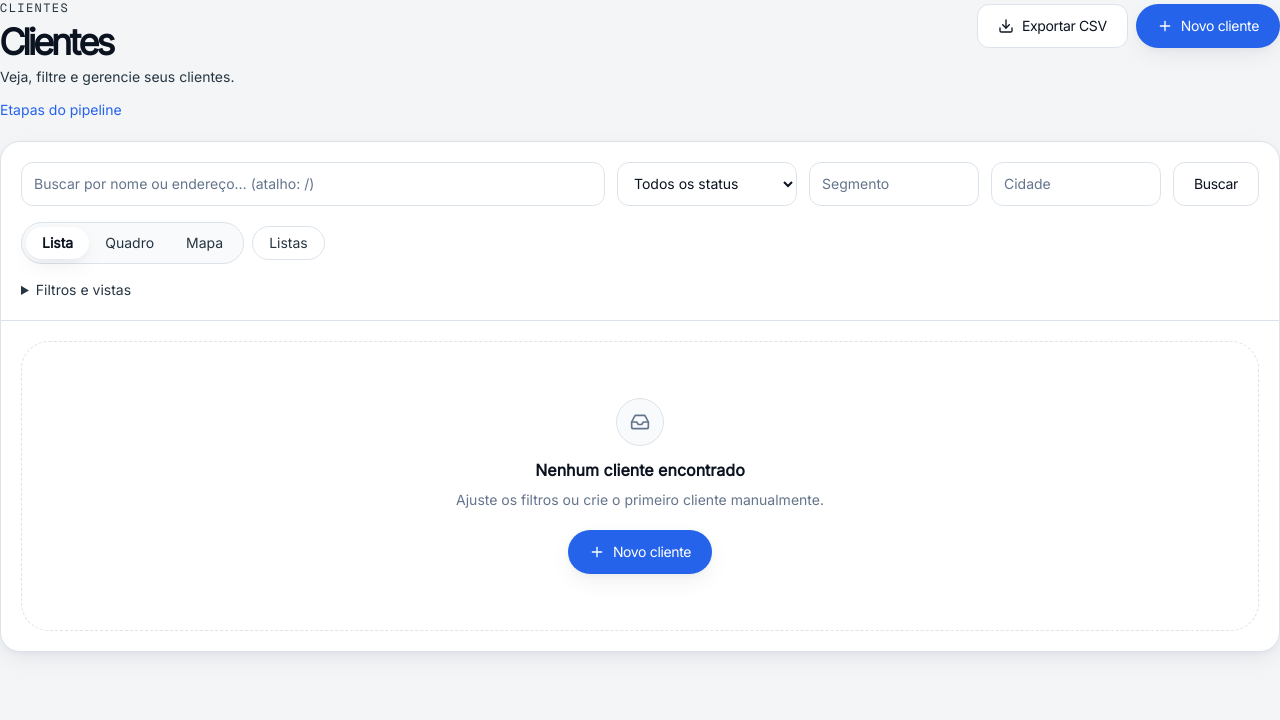
LeadsPage saved views › renders custom field badge in column selector
The image size is (1280, 720).
Click the heading "Filtros e vistas" at coordinates (83, 289), box [36, 281, 131, 298]
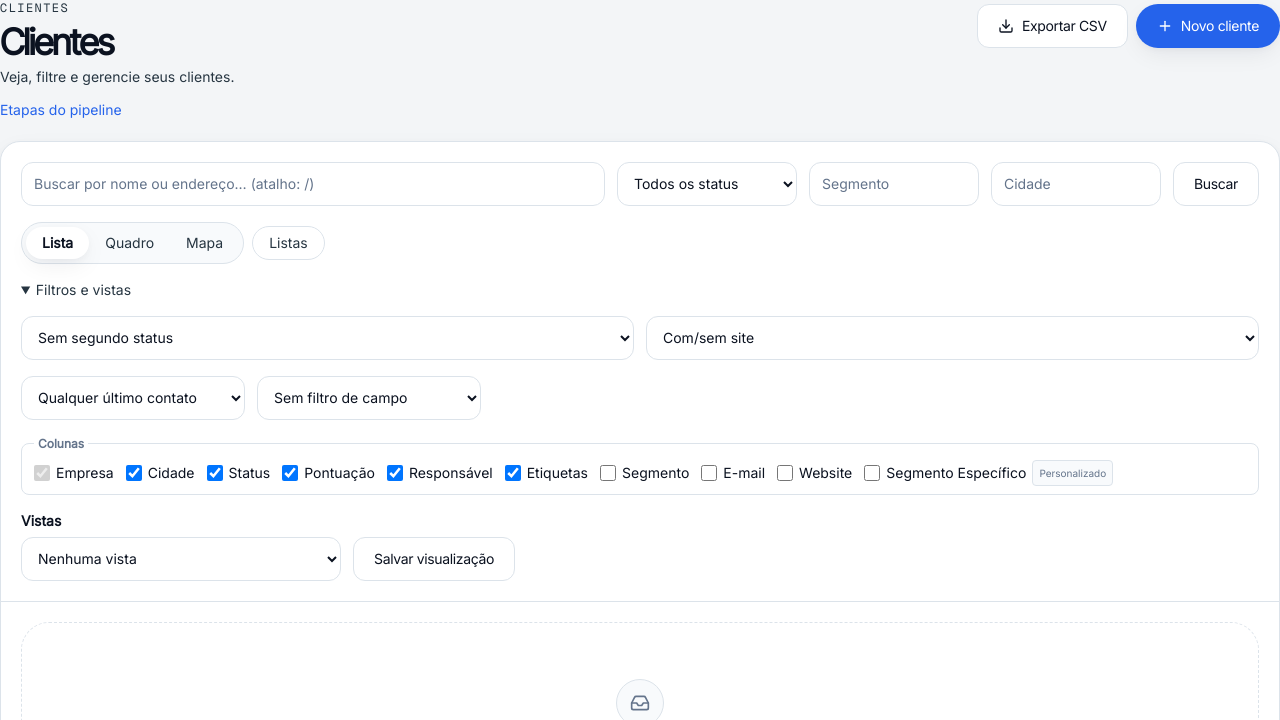
Check: the checkbox labelled "Segmento Específico" is shown, box [864, 465, 880, 481]
Check: the text "Personalizado" is shown, box [1032, 460, 1113, 486]
